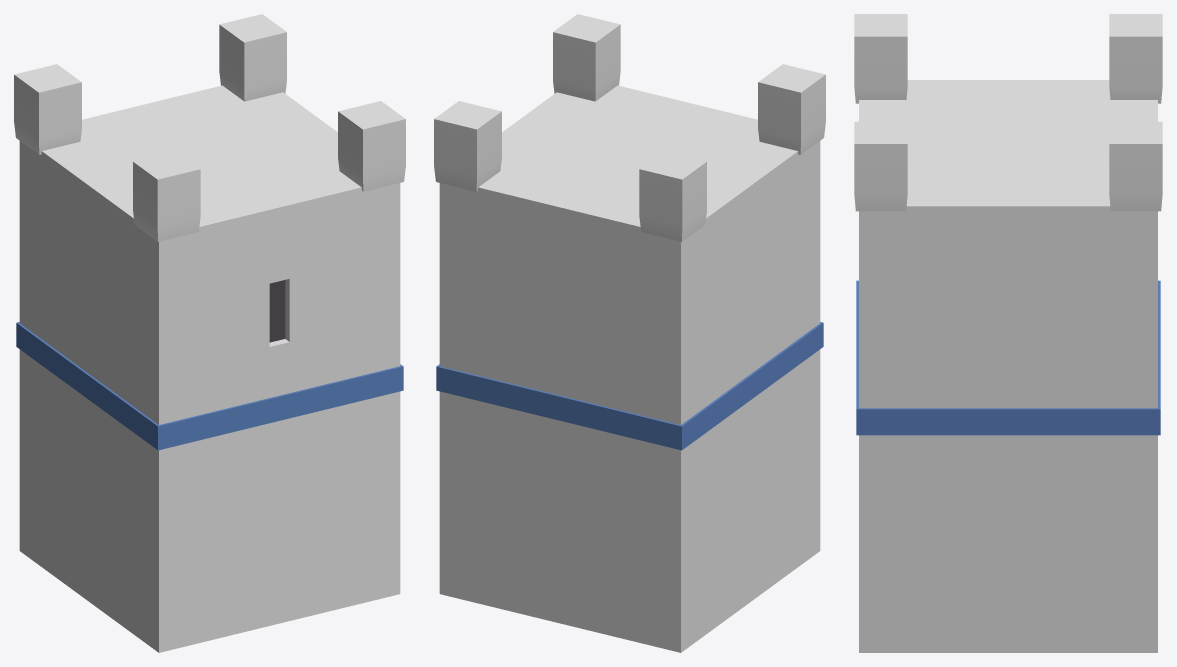
Rendered from wall.fbx.
3 renders of one model, left to right at view 1: azimuth 30°, elevation 25°; view 2: azimuth 150°, elevation 25°; view 3: azimuth 270°, elevation 25°, orthographic. The views are drawn at different scales.
Visible parts, largest first — view 1: pCube10; view 2: pCube10; view 3: pCube10.
Part boxes in pixels (bbox=[...]): pCube10: bbox=[14, 14, 405, 652]; pCube10: bbox=[434, 14, 825, 652]; pCube10: bbox=[854, 14, 1162, 652].
Bounding box in the file's own units: 4.1 × 7.51 × 4.11.
